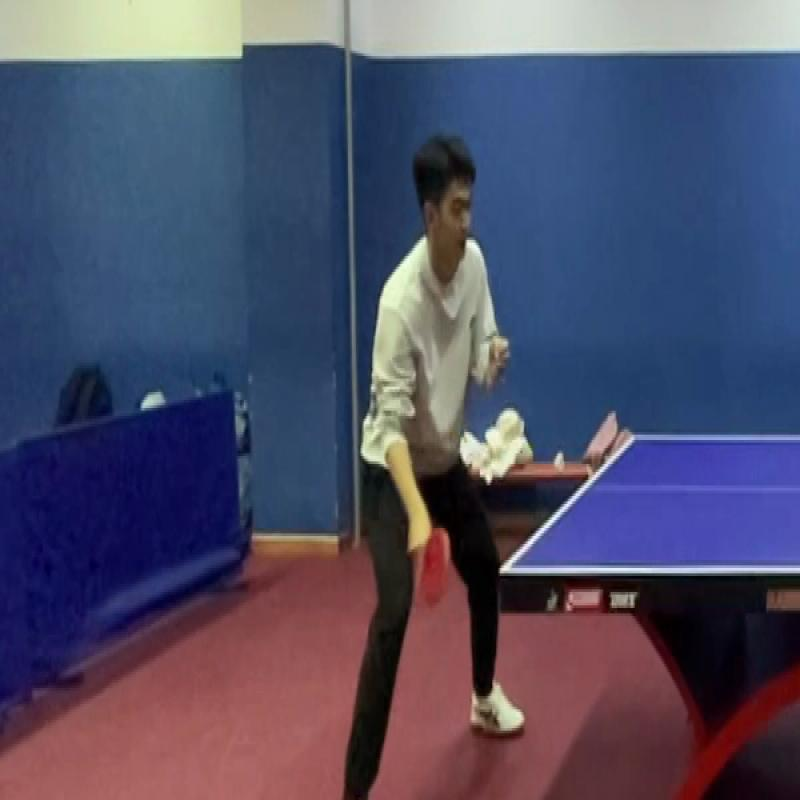bats: (412, 510, 459, 607)
